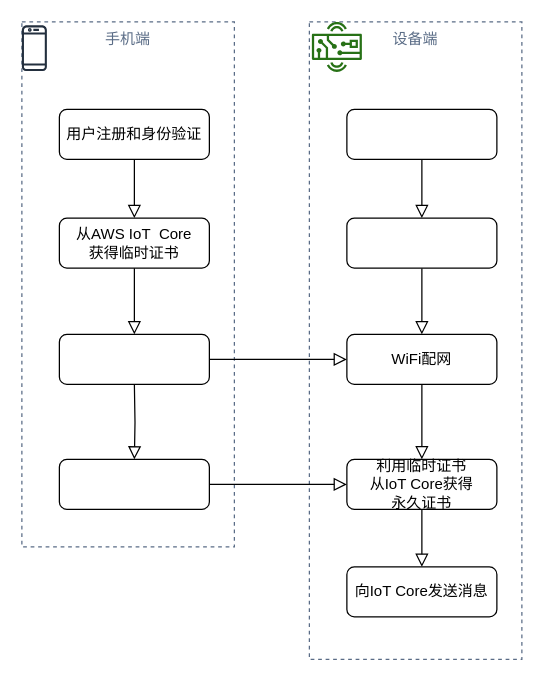
The diagram is 544 pixels wide and 681 high, and some of its shapes have lost their labels. Here are the shapes that lost their labels. From the top down, the centre of each, then its label:
At point (421, 133): "新设备首次开机".
At point (421, 242): "启动SoftAP".
At point (133, 358): "连接设备SoftAP".
At point (133, 483): "向设备发送 IoT临时证书".
